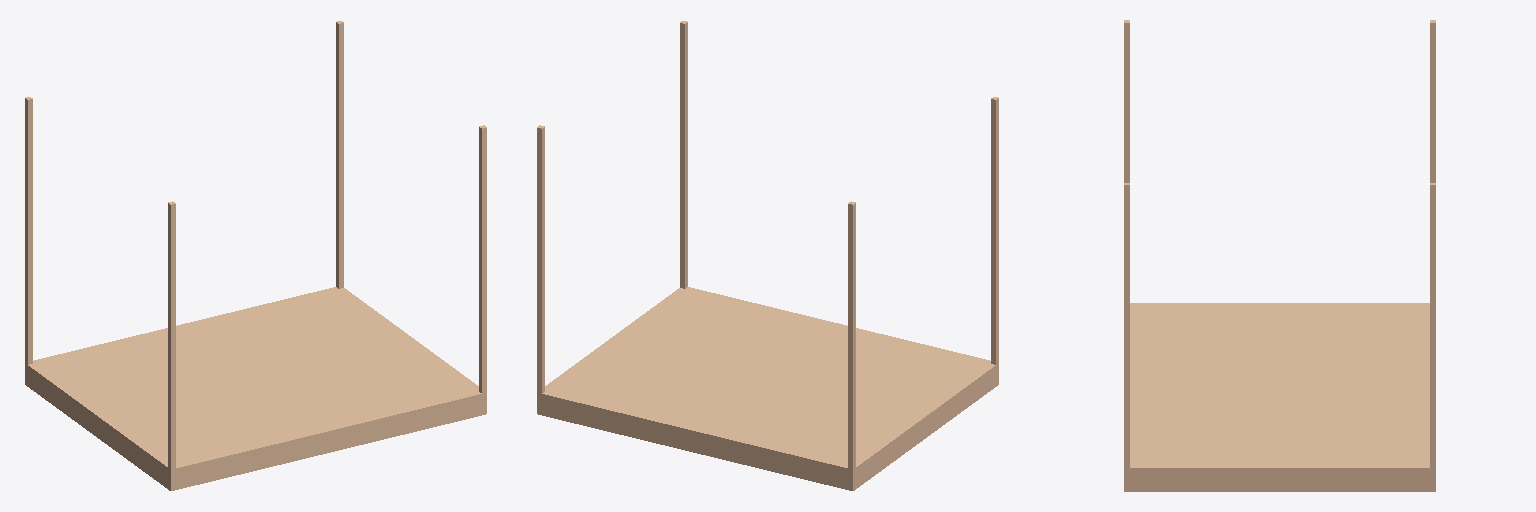
robot.urdf — flat_terrain:
<?xml version="1.0"?>
<robot name="flat_terrain">
  <link name="base_link">
  <contact>
      <lateral_friction value="1"/>
  </contact>
    <inertial>
      <origin rpy="0 0 0" xyz="0 0 0"/>
       <mass value=".0"/>
       <inertia ixx="0" ixy="0" ixz="0" iyy="0" iyz="0" izz="0"/>
    </inertial>
    <visual>
      <origin xyz="0 0 -0.05" rpy="0 0 0" />
      <geometry>
        <box size="1.524 1.2192 0.1" />
      </geometry>
      <material name="desert sand">
        <color rgba="0.9297 0.7930 0.6758 1" />
      </material>
    </visual>
    <collision>
      <origin xyz="0 0 -0.05" rpy="0 0 0" />
      <geometry>
        <box size="1.524 1.2192 0.1" />
      </geometry>
    </collision>
  </link>
  <link name="vertical_support_1">
  <contact>
      <lateral_friction value="1"/>
  </contact>
    <inertial>
      <origin rpy="0 0 0" xyz="0 0 0"/>
       <mass value=".0"/>
       <inertia ixx="0" ixy="0" ixz="0" iyy="0" iyz="0" izz="0"/>
    </inertial>
    <visual>
      <origin xyz="0 0 0.6096" rpy="0 0 0" />
      <geometry>
        <box size="0.0254 0.0254 1.2192" />
      </geometry>
      <material name="desert sand">
        <color rgba="0.9297 0.7930 0.6758 1" />
      </material>
    </visual>
    <collision>
      <origin xyz="0 0 0.6096" rpy="0 0 0" />
      <geometry>
        <box size="0.0254 0.0254 1.2192" />
      </geometry>
    </collision>
  </link>
  <link name="vertical_support_2">
  <contact>
      <lateral_friction value="1"/>
  </contact>
    <inertial>
      <origin rpy="0 0 0" xyz="0 0 0"/>
       <mass value=".0"/>
       <inertia ixx="0" ixy="0" ixz="0" iyy="0" iyz="0" izz="0"/>
    </inertial>
    <visual>
      <origin xyz="0 0 0.6096" rpy="0 0 0" />
      <geometry>
        <box size="0.0254 0.0254 1.2192" />
      </geometry>
      <material name="desert sand">
        <color rgba="0.9297 0.7930 0.6758 1" />
      </material>
    </visual>
    <collision>
      <origin xyz="0 0 0.6096" rpy="0 0 0" />
      <geometry>
        <box size="0.0254 0.0254 1.2192" />
      </geometry>
    </collision>
  </link>
  <link name="vertical_support_3">
  <contact>
      <lateral_friction value="1"/>
  </contact>
    <inertial>
      <origin rpy="0 0 0" xyz="0 0 0"/>
       <mass value=".0"/>
       <inertia ixx="0" ixy="0" ixz="0" iyy="0" iyz="0" izz="0"/>
    </inertial>
    <visual>
      <origin xyz="0 0 0.6096" rpy="0 0 0" />
      <geometry>
        <box size="0.0254 0.0254 1.2192" />
      </geometry>
      <material name="desert sand">
        <color rgba="0.9297 0.7930 0.6758 1" />
      </material>
    </visual>
    <collision>
      <origin xyz="0 0 0.6096" rpy="0 0 0" />
      <geometry>
        <box size="0.0254 0.0254 1.2192" />
      </geometry>
    </collision>
  </link>
  <link name="vertical_support_4">
  <contact>
      <lateral_friction value="1"/>
  </contact>
    <inertial>
      <origin rpy="0 0 0" xyz="0 0 0"/>
       <mass value=".0"/>
       <inertia ixx="0" ixy="0" ixz="0" iyy="0" iyz="0" izz="0"/>
    </inertial>
    <visual>
      <origin xyz="0 0 0.6096" rpy="0 0 0" />
      <geometry>
        <box size="0.0254 0.0254 1.2192" />
      </geometry>
      <material name="desert sand">
        <color rgba="0.9297 0.7930 0.6758 1" />
      </material>
    </visual>
    <collision>
      <origin xyz="0 0 0.6096" rpy="0 0 0" />
      <geometry>
        <box size="0.0254 0.0254 1.2192" />
      </geometry>
    </collision>
  </link>

  <joint name="vertical_1_base_fixed" type="fixed">
    <origin xyz="0.7493 0.5969 0.0" rpy="0 0 0" /> <!-- Length of base/2 - length of support/2 = 1.524/2 - 0.0254/2  -->
    <parent link="base_link" />
    <child link="vertical_support_1" />
  </joint>

  <joint name="vertical_2_base_fixed" type="fixed">
    <origin xyz="0.7493 -0.5969 0.0" rpy="0 0 0" /> <!-- Length of base/2 - length of support/2 = 1.524/2 - 0.0254/2  -->
    <parent link="base_link" />
    <child link="vertical_support_2" />
  </joint>

  <joint name="vertical_3_base_fixed" type="fixed">
    <origin xyz="-0.7493 0.5969 0.0" rpy="0 0 0" /> <!-- Length of base/2 - length of support/2 = 1.524/2 - 0.0254/2  -->
    <parent link="base_link" />
    <child link="vertical_support_3" />
  </joint>

  <joint name="vertical_4_base_fixed" type="fixed">
    <origin xyz="-0.7493 -0.5969 0.0" rpy="0 0 0" /> <!-- Length of base/2 - length of support/2 = 1.524/2 - 0.0254/2  -->
    <parent link="base_link" />
    <child link="vertical_support_4" />
  </joint>
</robot>

--- Render facts (derived) ---
Views: 3 orthographic renders of the robot side by side, from view 1: azimuth 30°, elevation 25°; view 2: azimuth 150°, elevation 25°; view 3: azimuth 270°, elevation 25°.
Model flat_terrain with 5 links and 4 joints (4 fixed), rooted at base_link, posed every joint at zero.
Links seen in each view (by area): view 1: base_link, vertical_support_2, vertical_support_4, vertical_support_1, vertical_support_3; view 2: base_link, vertical_support_1, vertical_support_3, vertical_support_2, vertical_support_4; view 3: base_link, vertical_support_1, vertical_support_2, vertical_support_3, vertical_support_4.
Link boxes in pixels (x1=…): base_link: x1=25, y1=287, x2=486, y2=490; vertical_support_2: x1=479, y1=125, x2=486, y2=393; vertical_support_4: x1=168, y1=201, x2=175, y2=469; vertical_support_1: x1=336, y1=21, x2=343, y2=288; vertical_support_3: x1=25, y1=97, x2=32, y2=364; base_link: x1=537, y1=287, x2=998, y2=490; vertical_support_1: x1=537, y1=125, x2=544, y2=393; vertical_support_3: x1=848, y1=201, x2=855, y2=469; vertical_support_2: x1=680, y1=21, x2=687, y2=288; vertical_support_4: x1=991, y1=97, x2=998, y2=364; base_link: x1=1124, y1=303, x2=1435, y2=491; vertical_support_1: x1=1430, y1=183, x2=1435, y2=467; vertical_support_2: x1=1124, y1=183, x2=1129, y2=467; vertical_support_3: x1=1430, y1=20, x2=1435, y2=182; vertical_support_4: x1=1124, y1=20, x2=1129, y2=182.
Bounding box of the posed robot: 1.52 × 1.22 × 1.32 m (x, y, z).
Geometry: primitives only (box / cylinder / sphere), no mesh files.